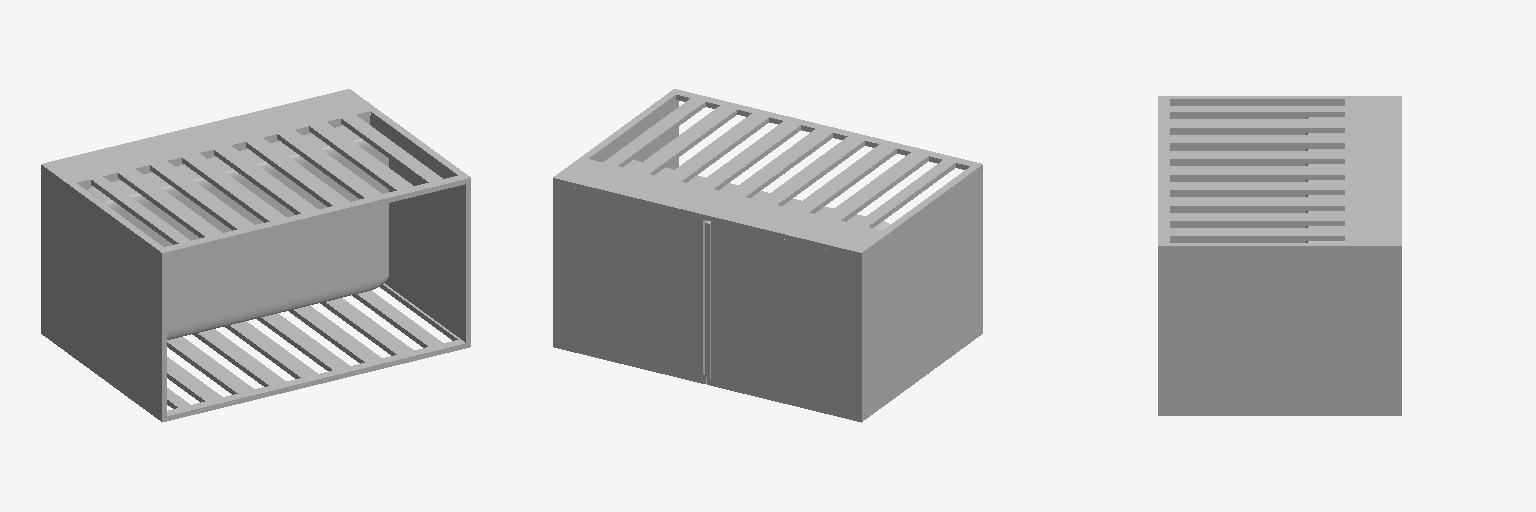
Rendered from FritidsGreen.obj.
3 renders of one model, left to right at view 1: azimuth 30°, elevation 25°; view 2: azimuth 150°, elevation 25°; view 3: azimuth 270°, elevation 25°, orthographic.
Visible parts, largest first — view 1: obj_0; view 2: obj_0; view 3: obj_0.
Boxes of the visible parts, x1,y1,x2,y2 form: obj_0: [41, 89, 470, 422]; obj_0: [553, 89, 982, 422]; obj_0: [1158, 96, 1401, 415].
Size of the model in its own units: 126 by 66.3 by 86.